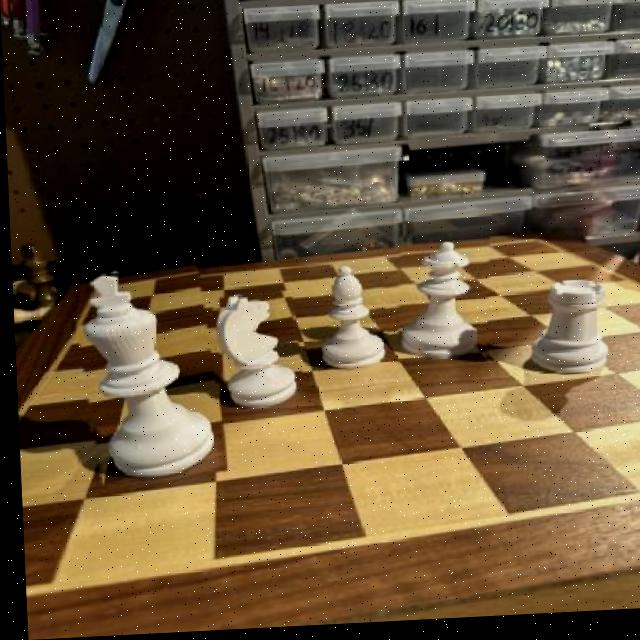black-rook: (307, 265, 387, 380)
white-bishop: (73, 267, 222, 487)
white-king: (211, 295, 301, 414)
white-pawn: (392, 239, 490, 370)
